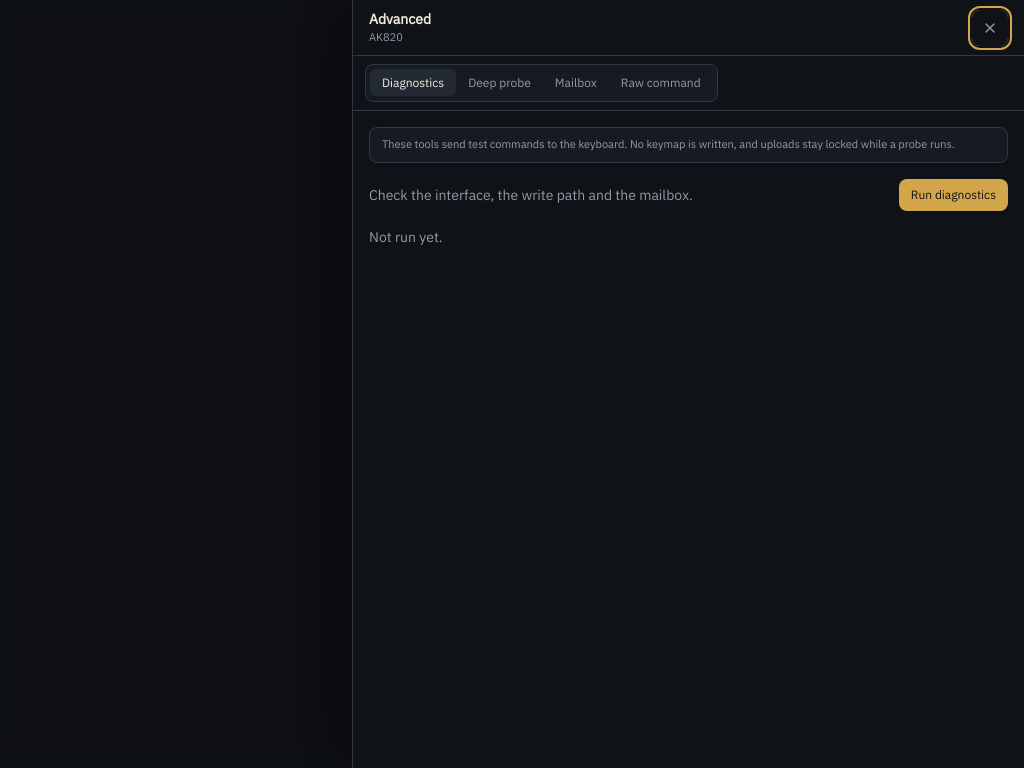
it: AdvancedDrawer › reports a refused write
Click the button "Run diagnostics" at (953, 195), box [899,179,1008,211]
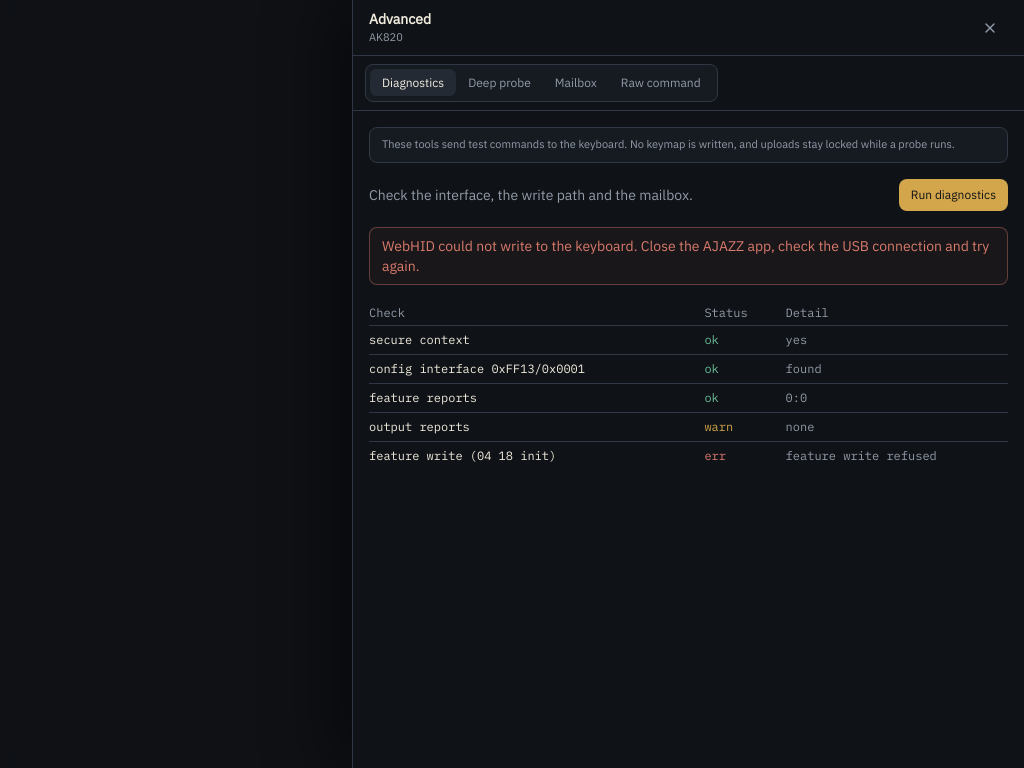
Now the text "WebHID could not write to the keyboard" is shown, box [382,237,989,275]
